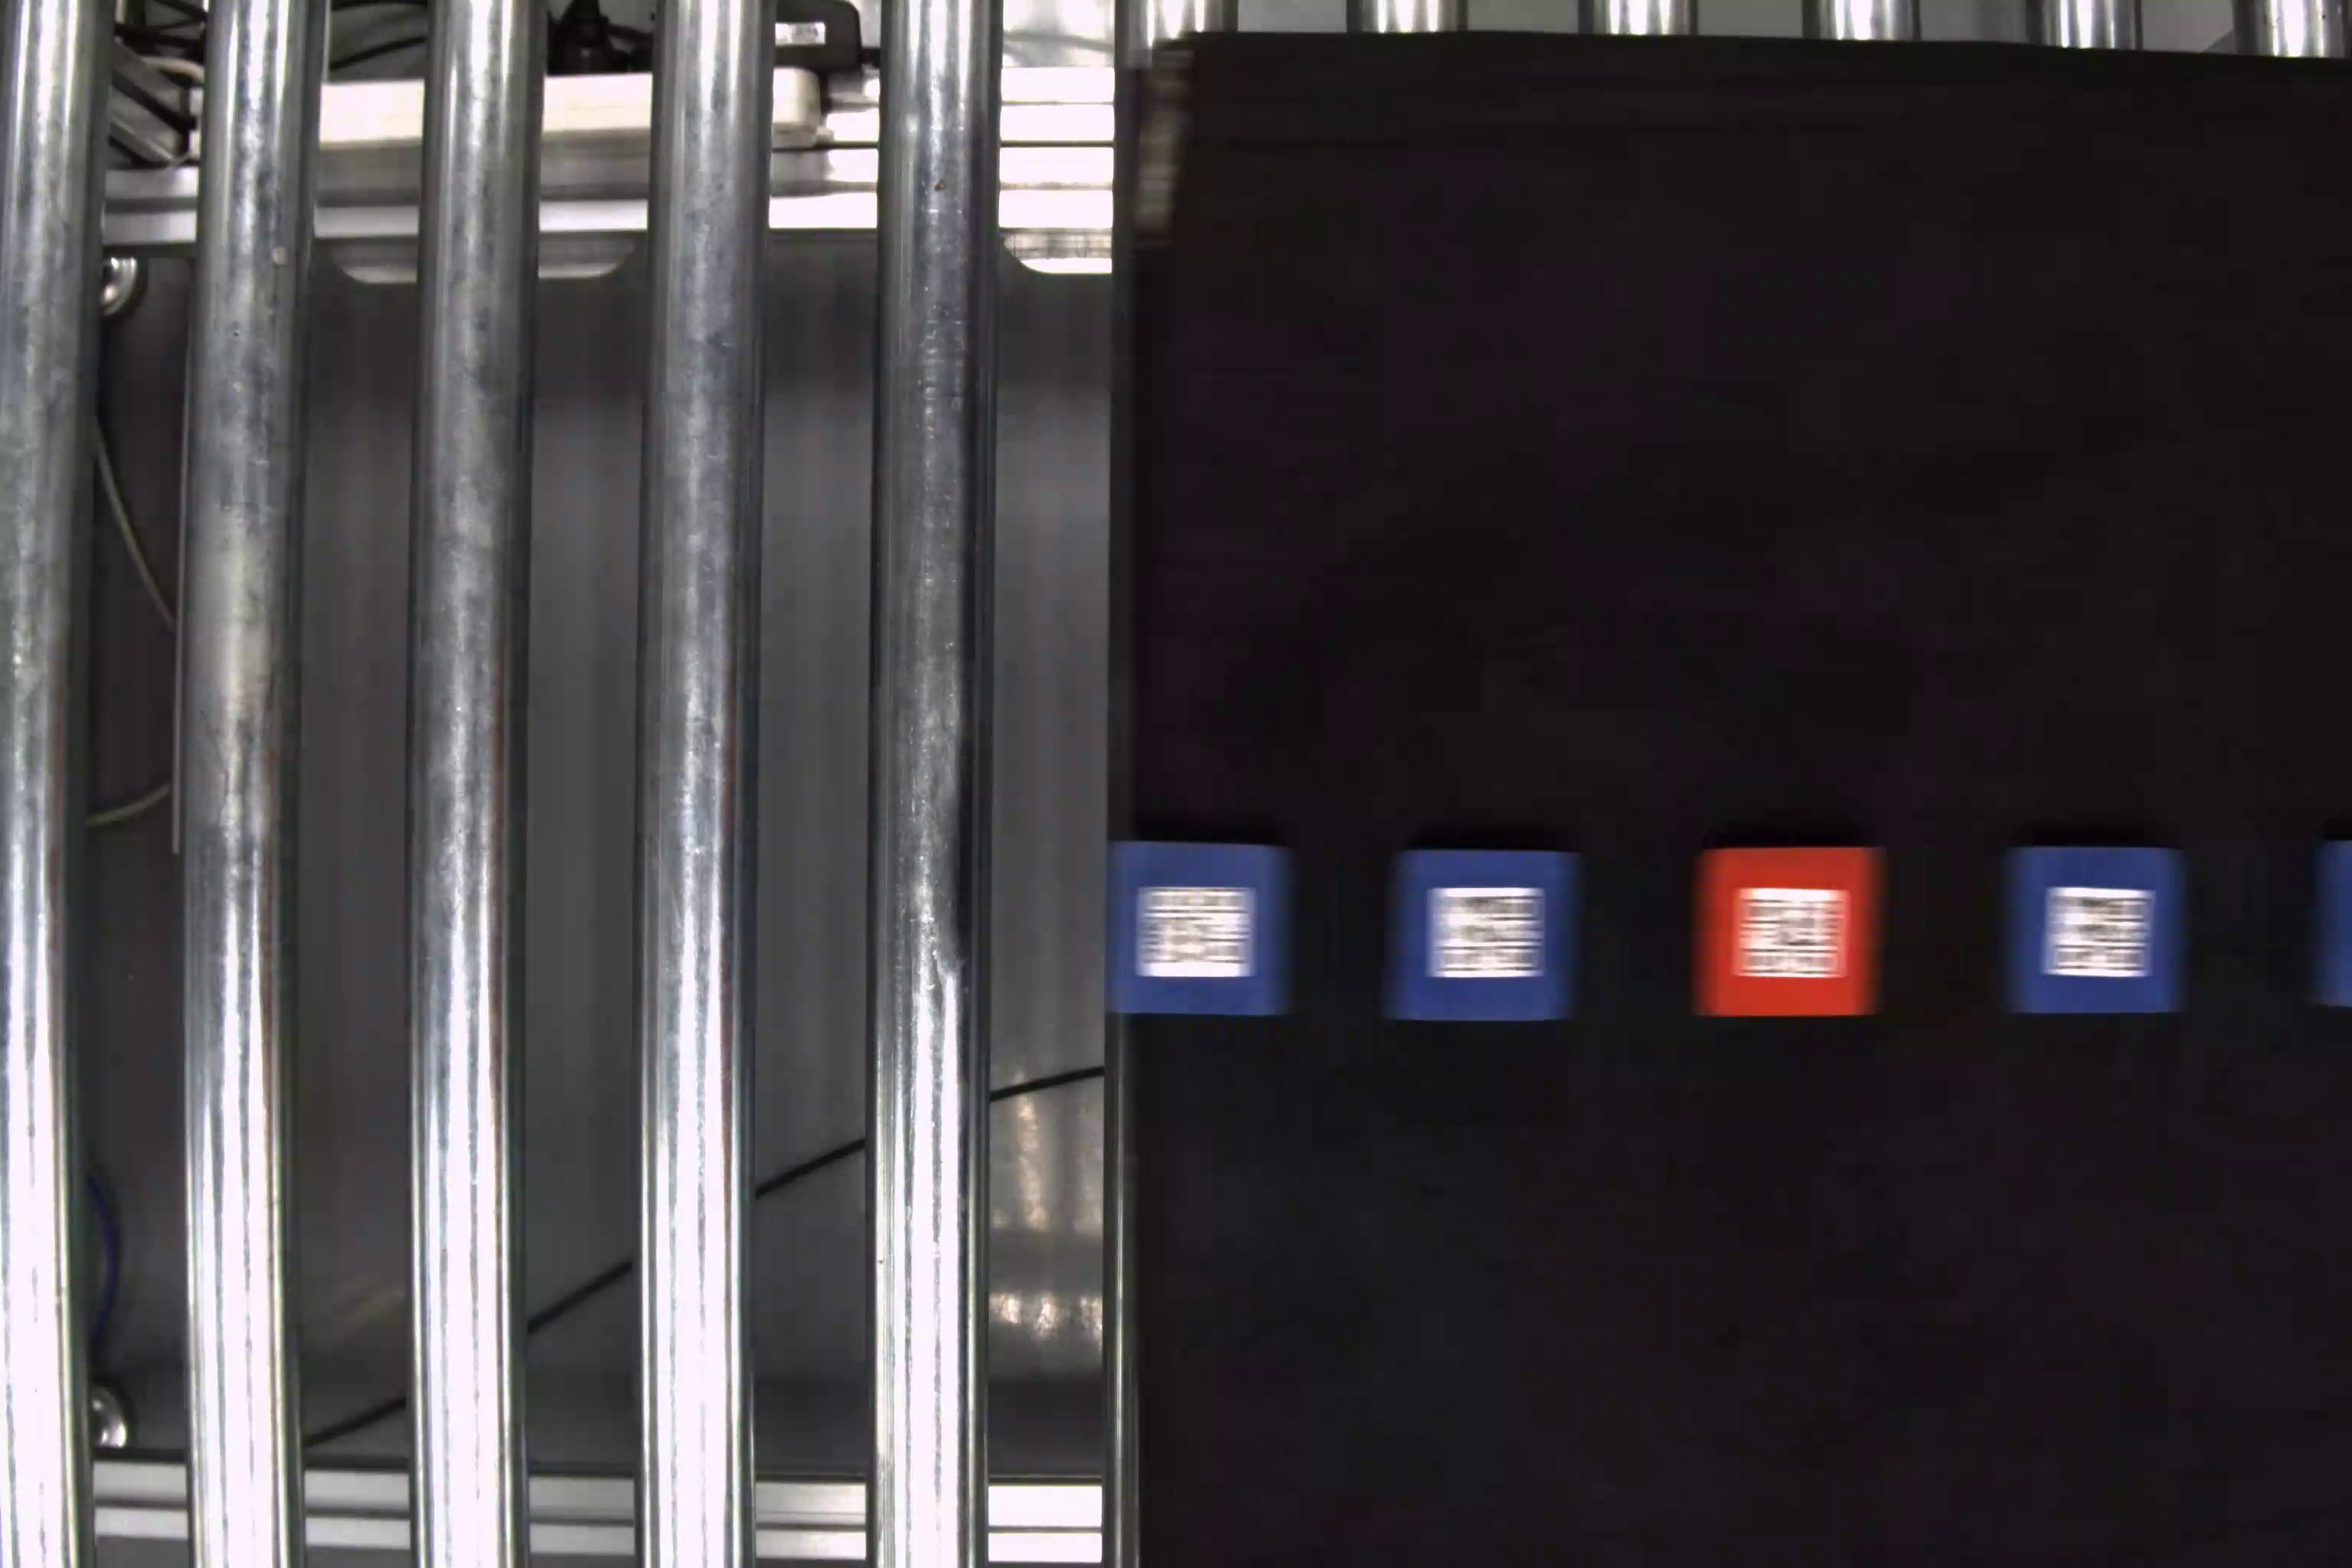wood: (1690, 836, 1890, 1022), (1388, 845, 1580, 1022), (1104, 840, 1297, 1013), (2007, 842, 2187, 1015)
